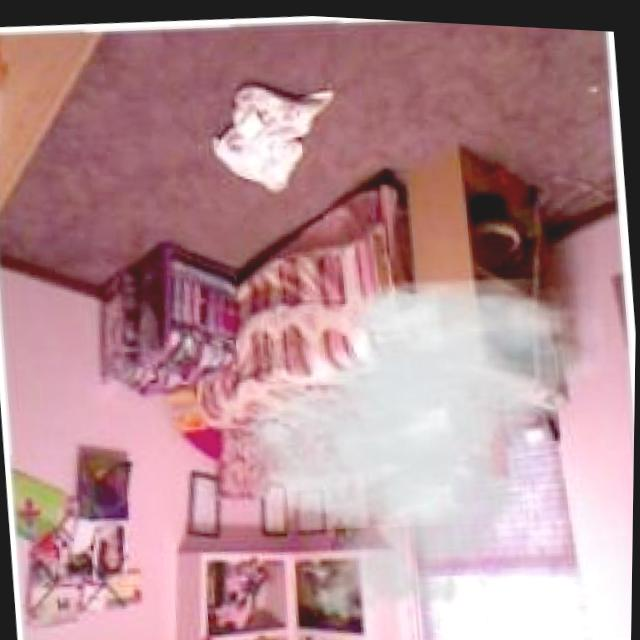no_helmet: (206, 252, 631, 640)
